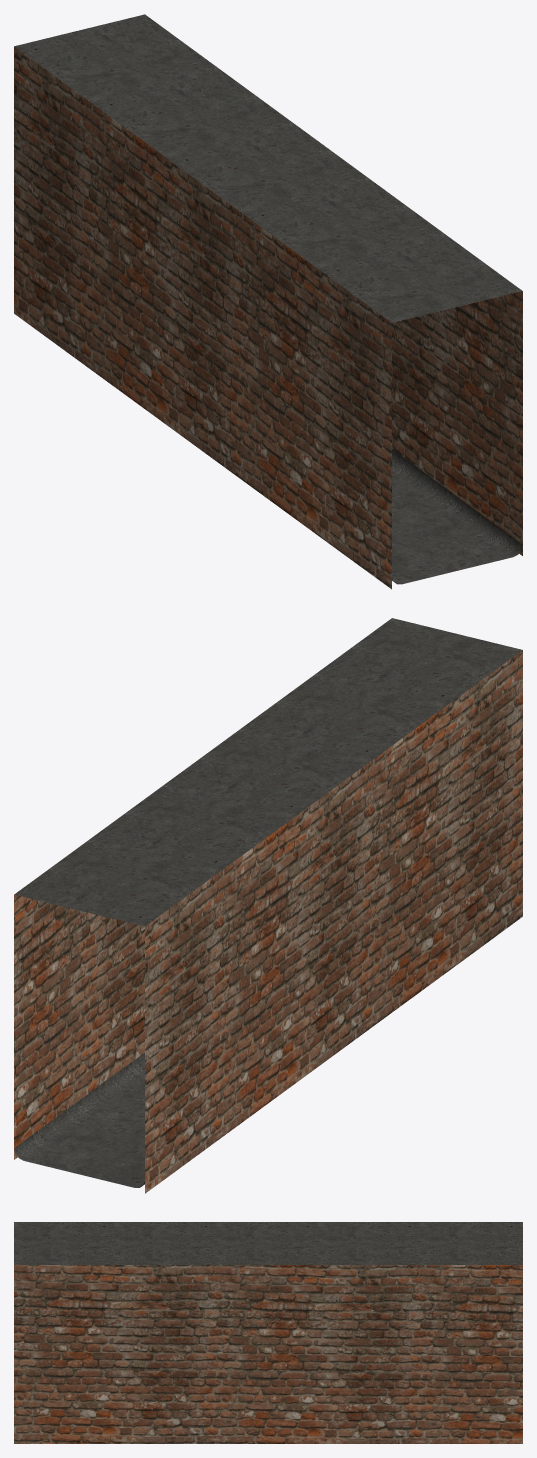
Rendered from straight.fbx.
The picture shows the model from 3 angles, top to bottom: view 1: azimuth 30°, elevation 25°; view 2: azimuth 150°, elevation 25°; view 3: azimuth 270°, elevation 25°; orthographic projection. The views are drawn at different scales.
Visible parts, largest first — view 1: outer_wall2.001, ceiling2.001, inner_wall2.001, floor2.001; view 2: outer_wall2.001, ceiling2.001, inner_wall2.001, floor2.001; view 3: inner_wall2.001, ceiling2.001.
Part boxes in pixels (x1=…): outer_wall2.001: x1=14, y1=46, x2=391, y2=589; ceiling2.001: x1=14, y1=14, x2=522, y2=322; inner_wall2.001: x1=392, y1=291, x2=522, y2=555; floor2.001: x1=392, y1=449, x2=522, y2=584; outer_wall2.001: x1=145, y1=650, x2=522, y2=1193; ceiling2.001: x1=14, y1=618, x2=522, y2=926; inner_wall2.001: x1=14, y1=894, x2=144, y2=1159; floor2.001: x1=14, y1=1053, x2=144, y2=1187; inner_wall2.001: x1=14, y1=1265, x2=522, y2=1443; ceiling2.001: x1=14, y1=1222, x2=522, y2=1264.
Size of the model in its own units: 1 by 1.95 by 5.
